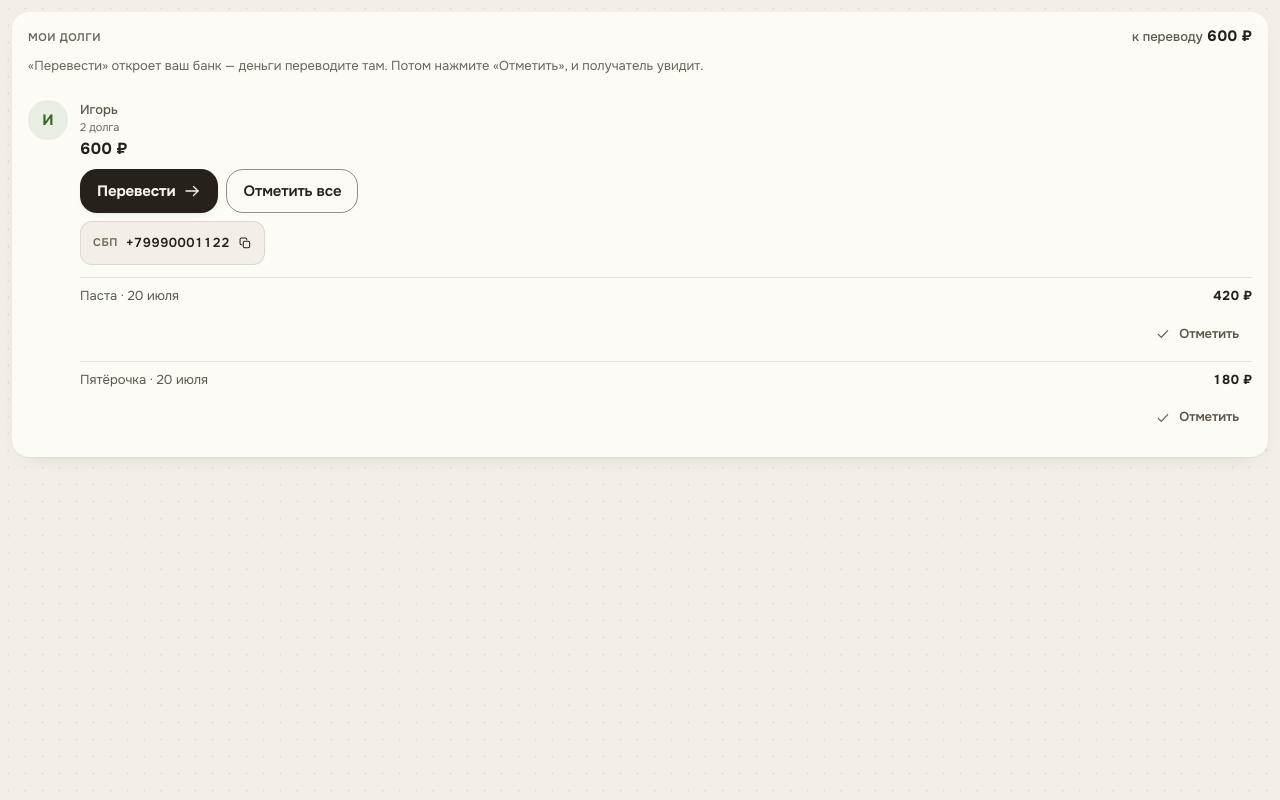
BudgetPage — неудачная отметка › частичный отказ «Отметить все»: строка подписана, ведёт отметка
Click the button with aria-label "Отметить все: Игорь": (292, 191) [226,169,358,213]
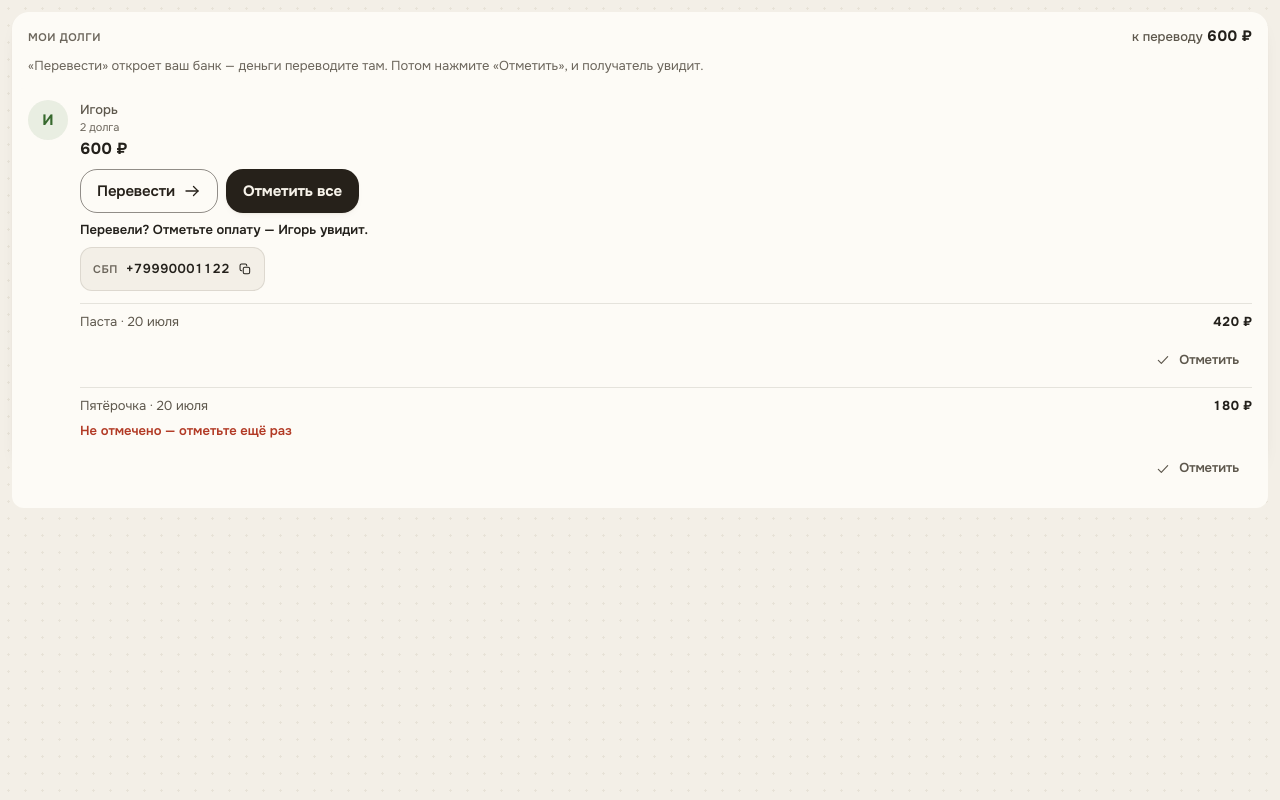
Result: the text "Не отмечено — отметьте ещё раз" is shown at [80,422,292,439]
